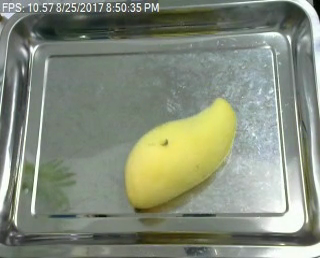Mango: (120, 91, 238, 209)
